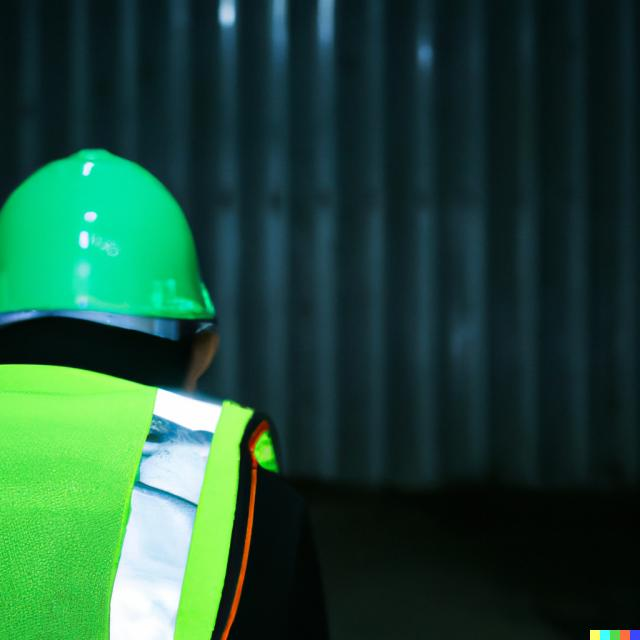Reflective-Jacket: (0, 368, 288, 636)
Safety-Helmet: (0, 146, 229, 352)
